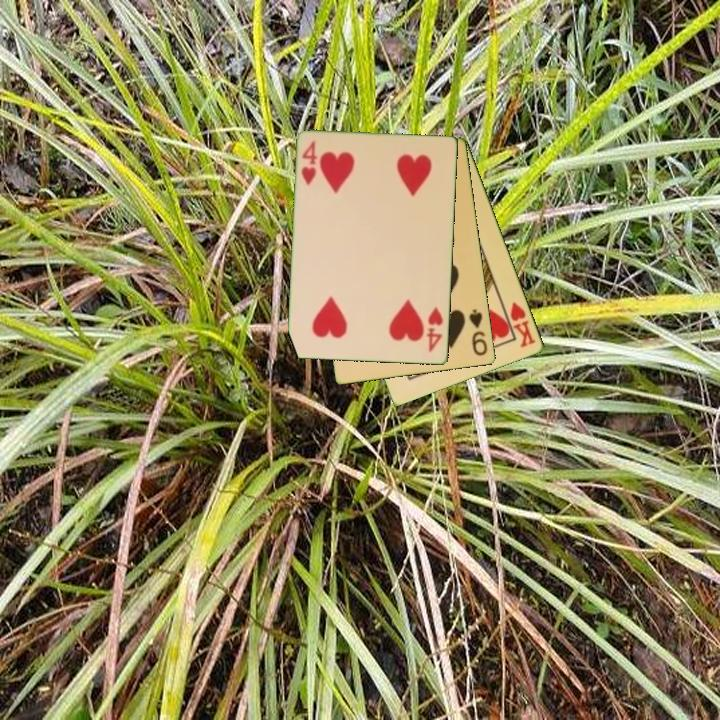4h: (423, 304, 446, 355), (298, 137, 320, 188)
9s: (466, 306, 490, 359)
Kh: (500, 299, 539, 351)
